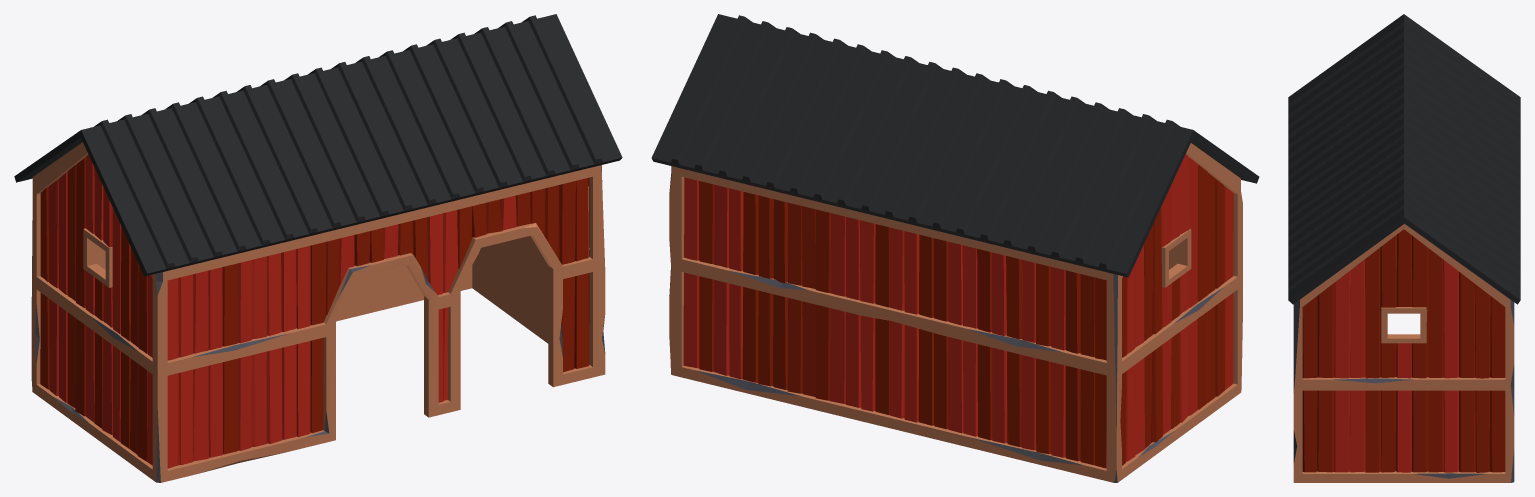
File: Shed_1b.fbx
The picture shows the model from 3 angles, left to right: view 1: azimuth 30°, elevation 25°; view 2: azimuth 150°, elevation 25°; view 3: azimuth 270°, elevation 25°; orthographic projection. The views are drawn at different scales.
Visible parts, largest first — view 1: Shed_1b; view 2: Shed_1b; view 3: Shed_1b.
Boxes of the visible parts, bbox=[...] form: Shed_1b: bbox=[14, 14, 622, 482]; Shed_1b: bbox=[651, 14, 1259, 482]; Shed_1b: bbox=[1288, 14, 1520, 482].
Bounding box in the file's own units: 360 × 228 × 174.
